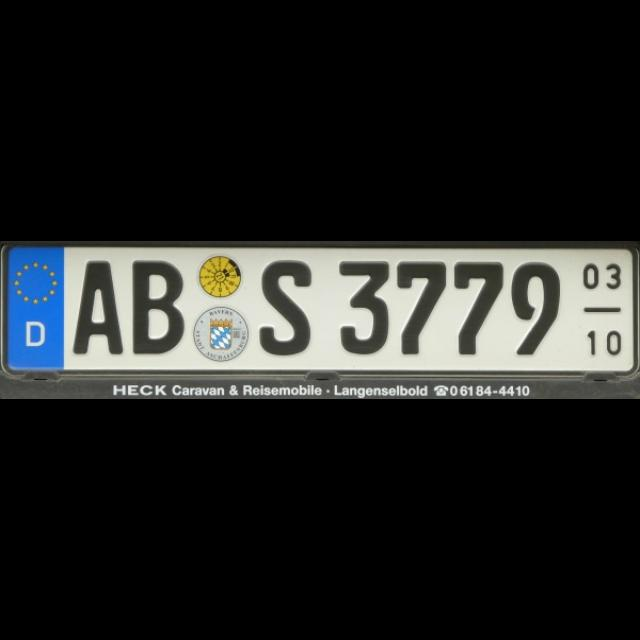d_license_plate: (6, 246, 634, 372)
